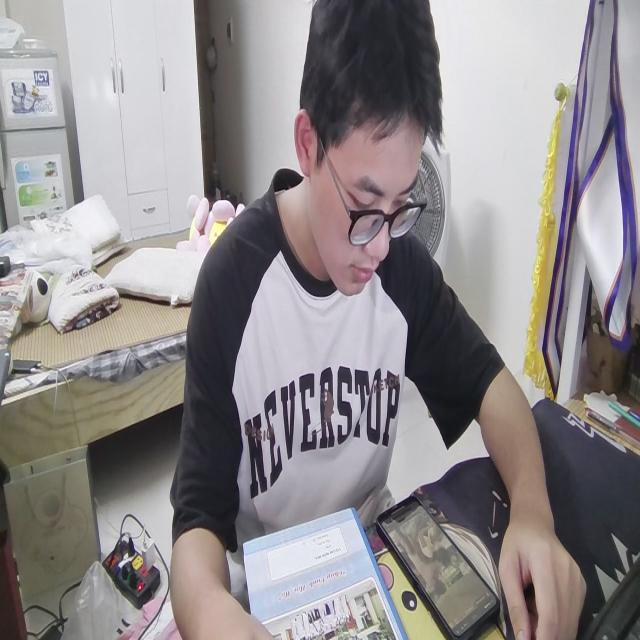book: (238, 505, 389, 640)
phone: (376, 488, 504, 640)
student: (176, 0, 584, 640)
